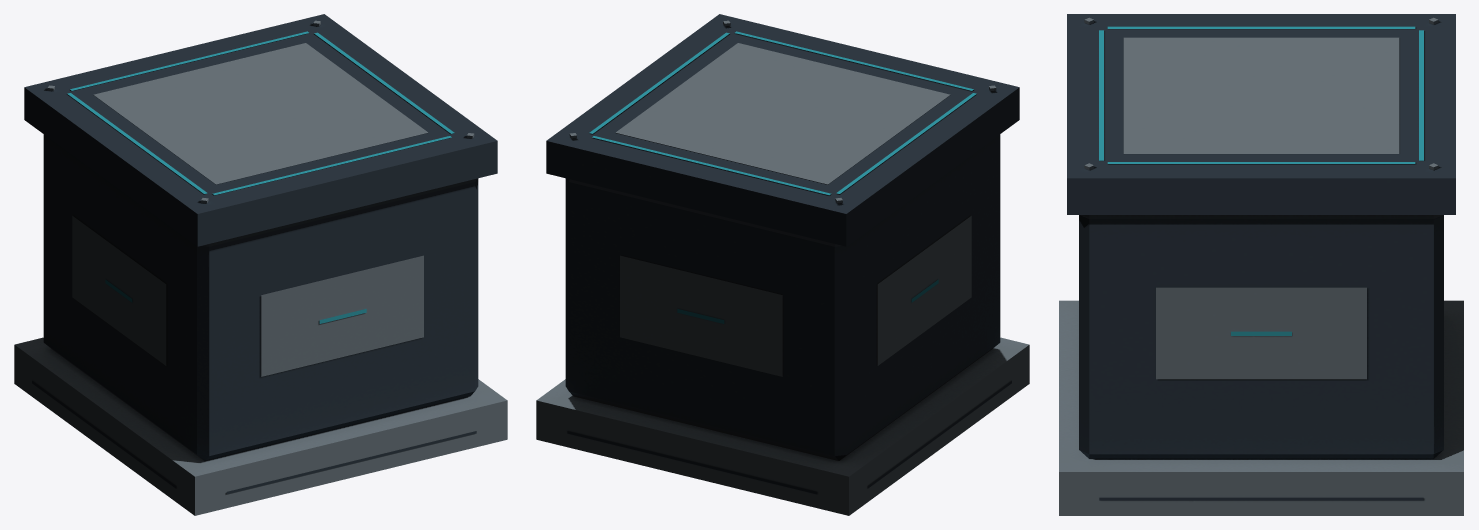
Rendered from 0-20261016-1900-ev024-r04-mockup-plinth_baked.glb.
3 views of the same model, side by side, from view 1: azimuth 30°, elevation 25°; view 2: azimuth 150°, elevation 25°; view 3: azimuth 270°, elevation 25° (orthographic). The views are drawn at different scales.
Visible parts, largest first — view 1: SW_Showroom_Plinth; view 2: SW_Showroom_Plinth; view 3: SW_Showroom_Plinth.
Part boxes in pixels (x1,y1,x2,y2): SW_Showroom_Plinth: (14,14,507,515); SW_Showroom_Plinth: (536,14,1029,515); SW_Showroom_Plinth: (1059,14,1463,515).
Bounding box in the file's own units: 1 × 0.92 × 1.
1 material, 1 textured.
